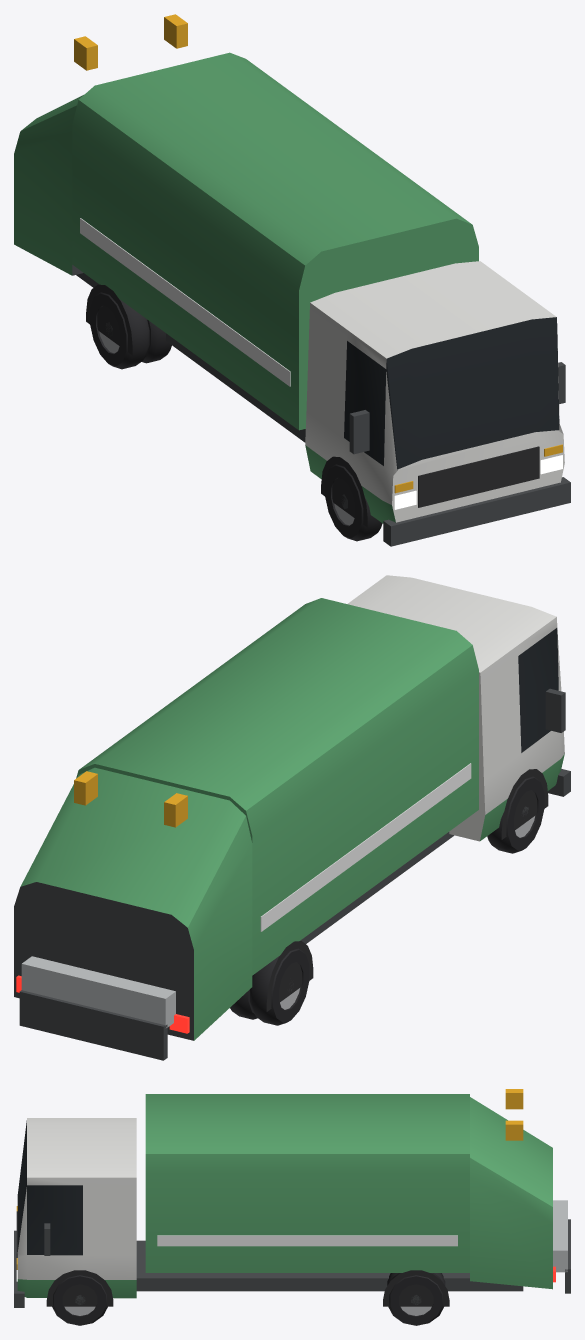
Rendered from garbage_truck.glb.
3 renders of one model, top to bottom at view 1: azimuth 30°, elevation 25°; view 2: azimuth 150°, elevation 25°; view 3: azimuth 270°, elevation 25°, orthographic. The views are drawn at different scales.
Parts seen in each view (by area): view 1: garbage_truck; view 2: garbage_truck; view 3: garbage_truck.
Boxes of the visible parts, bbox=[...] form: garbage_truck: bbox=[14, 14, 570, 546]; garbage_truck: bbox=[14, 575, 570, 1060]; garbage_truck: bbox=[14, 1089, 570, 1325].
Size of the model in its own units: 0.1764 by 0.21 by 0.5616.
